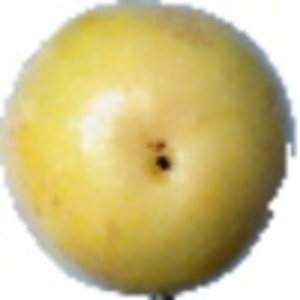maracujá: (1, 1, 299, 300)
